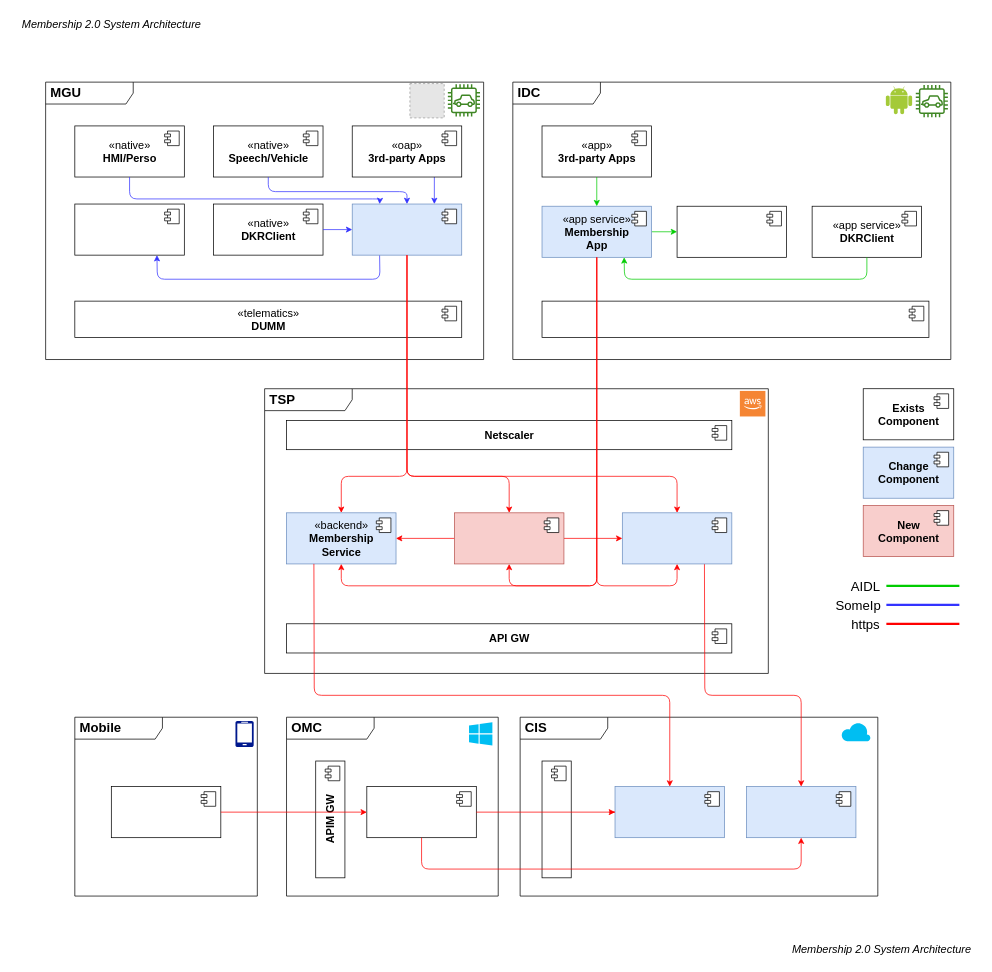
The diagram is 992 pixels wide and 972 high, and some of its shapes have lost their labels. Grey dashed boxes stand in for pictures. Here are the shapes that lost their labels. From the top down, the centre of each, then its label:
At (129,229): "«native» PersoFW".
At (406,229): "«oap» Membership App".
At (731,231): "«app service» PersoApp".
At (735,319): "«telematics» OKHTTP".
At (509,538): "«backend» Task Service".
At (677,538): "«backend» BMWBadge Service".
At (166,812): "«application» MyBMW".
At (421,812): "«backend» MyBMW OMC".
At (556,819): "CIS GW".
At (669,812): "«backend» M2".
At (801,812): "«backend» CMS".
